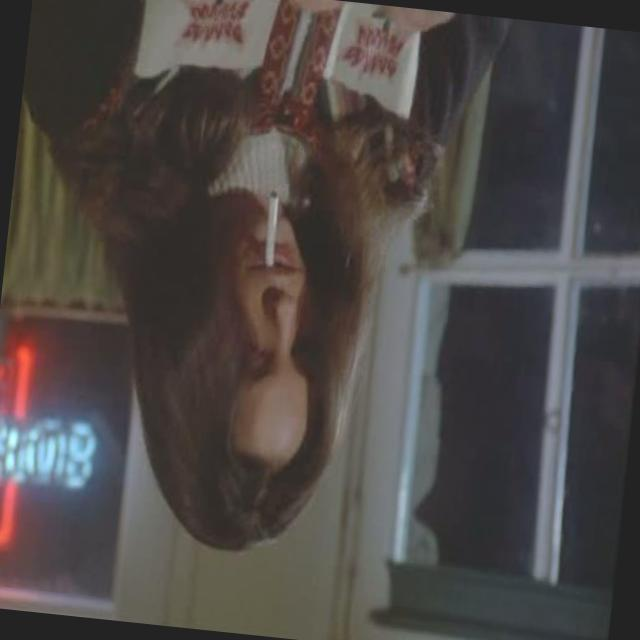cigarette: (250, 175, 288, 286)
